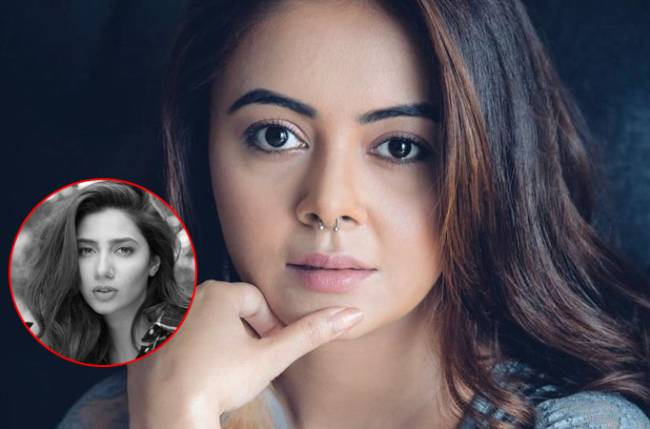NoMask: (226, 77, 436, 337), (78, 233, 138, 312)
